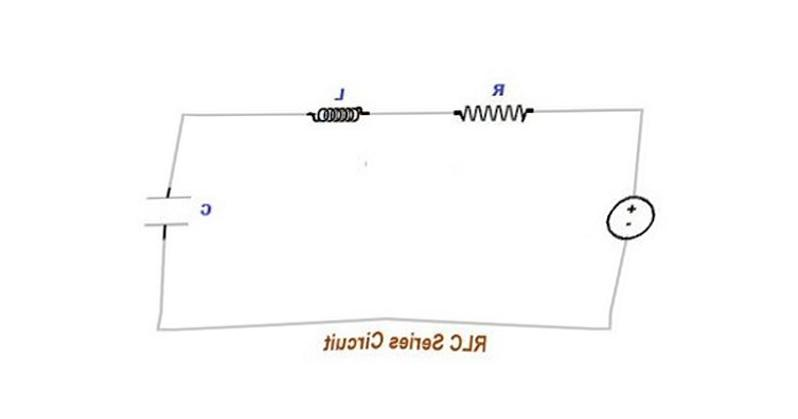Battery: (583, 182, 672, 258)
